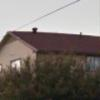chimneys: (32, 27, 38, 34)
